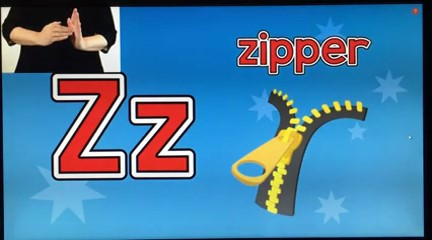Z: (34, 4, 101, 56)
